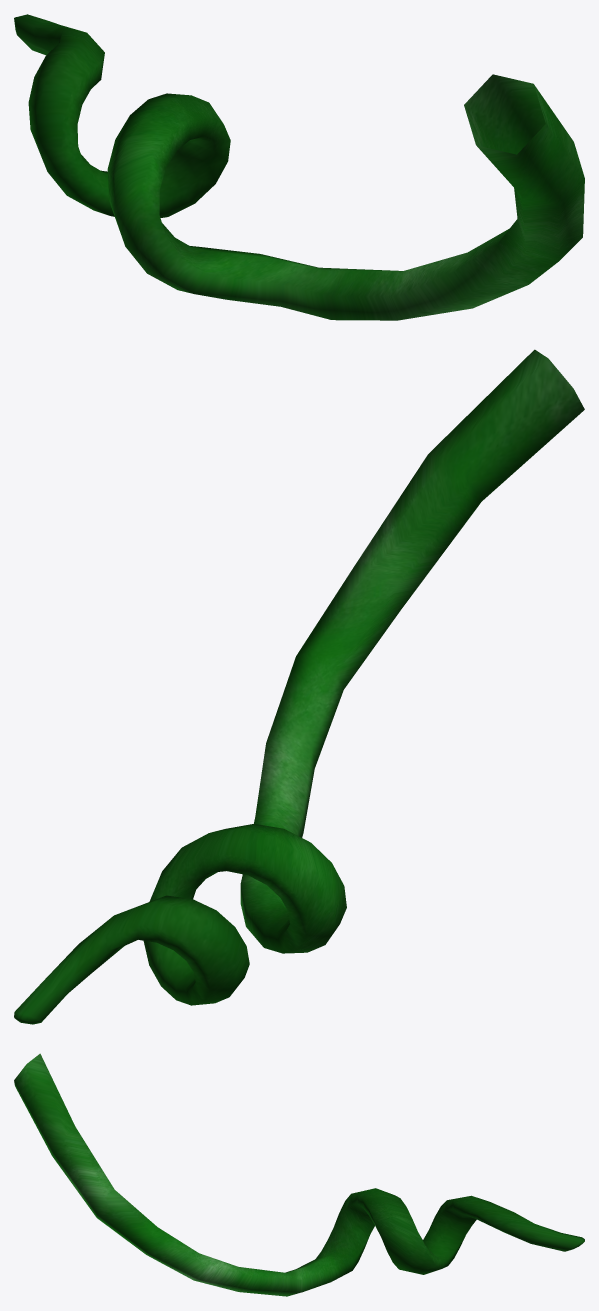
File: branch_2.FBX
The picture shows the model from 3 angles, top to bottom: view 1: azimuth 30°, elevation 25°; view 2: azimuth 150°, elevation 25°; view 3: azimuth 270°, elevation 25°; orthographic projection. The views are drawn at different scales.
Parts seen in each view (by area): view 1: Spring001; view 2: Spring001; view 3: Spring001.
Part boxes in pixels (box(x1,y1,x2,y2)): Spring001: box(14, 14, 584, 320); Spring001: box(14, 349, 584, 1024); Spring001: box(14, 1053, 584, 1296).
Size of the model in its own units: 16.85 by 29.47 by 67.59.
Materials: 1 (1 with a texture image).
